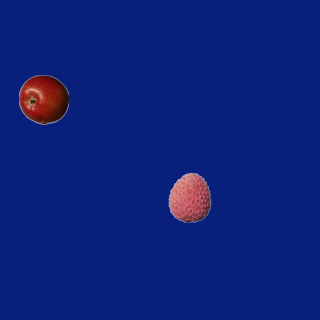Apple Braeburn: (18, 74, 68, 124)
Lychee: (164, 172, 214, 222)
